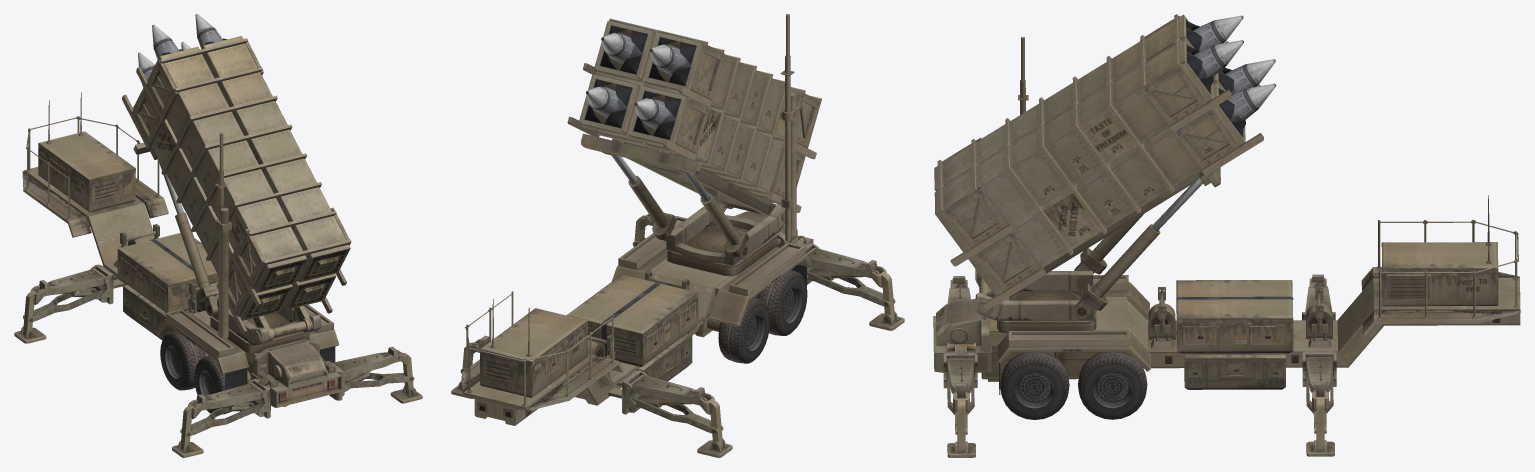
File: type_pac3.glb
The picture shows the model from 3 angles, left to right: view 1: azimuth 30°, elevation 25°; view 2: azimuth 150°, elevation 25°; view 3: azimuth 270°, elevation 25°; orthographic projection. The views are drawn at different scales.
Parts seen in each view (by area): view 1: Object_4, Object_3, Object_2; view 2: Object_3, Object_4, Object_2; view 3: Object_4, Object_3, Object_2.
Boxes of the visible parts, x1=… form: Object_4: x1=122, y1=14, x2=351, y2=343; Object_3: x1=14, y1=92, x2=422, y2=457; Object_2: x1=160, y1=331, x2=231, y2=414; Object_3: x1=451, y1=203, x2=904, y2=457; Object_4: x1=567, y1=14, x2=821, y2=259; Object_2: x1=718, y1=269, x2=807, y2=363; Object_4: x1=934, y1=14, x2=1275, y2=319; Object_3: x1=933, y1=195, x2=1520, y2=457; Object_2: x1=1000, y1=352, x2=1147, y2=419.
Size of the model in its own units: 6.58 by 8.15 by 11.96.
Materials: 2 (2 with a texture image).
